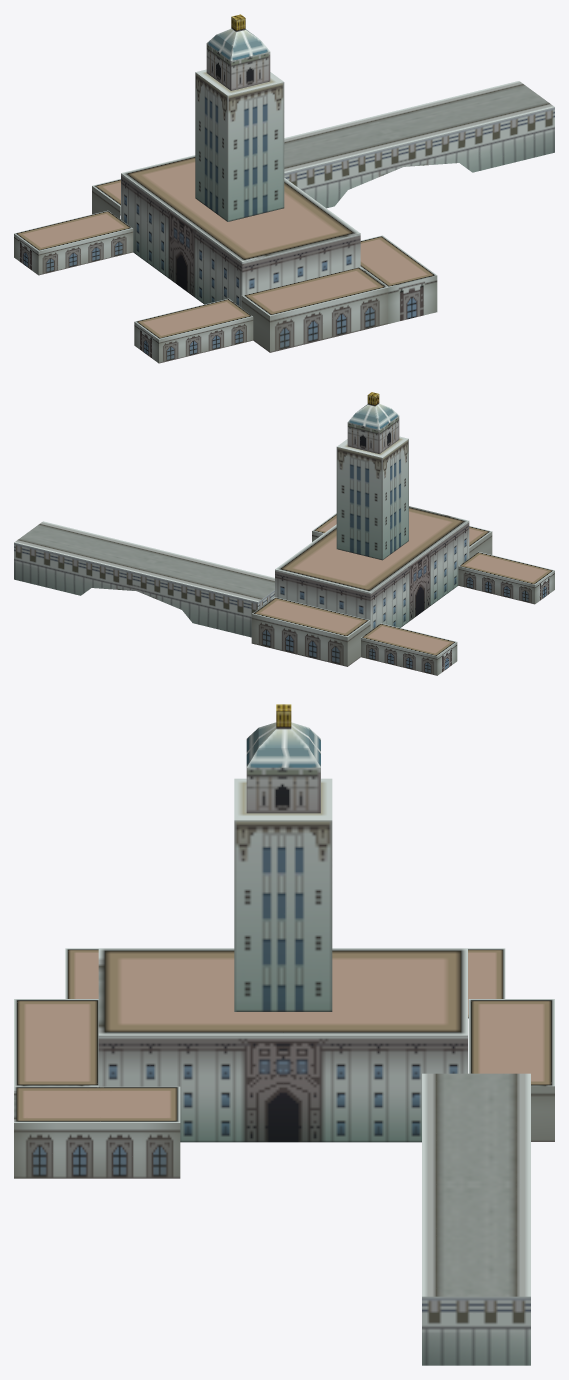
The model's file is TownHall_Bridge.fbx.
3 views of the same model, one above another, from view 1: azimuth 30°, elevation 25°; view 2: azimuth 150°, elevation 25°; view 3: azimuth 270°, elevation 25° (orthographic). The views are drawn at different scales.
Parts seen in each view (by area): view 1: TownHall_Bridge; view 2: TownHall_Bridge; view 3: TownHall_Bridge.
Boxes of the visible parts, x1,y1,x2,y2 form: TownHall_Bridge: [14, 14, 554, 363]; TownHall_Bridge: [14, 392, 554, 675]; TownHall_Bridge: [14, 704, 554, 1365].
Size of the model in its own units: 24.77 by 11.84 by 14.89.
